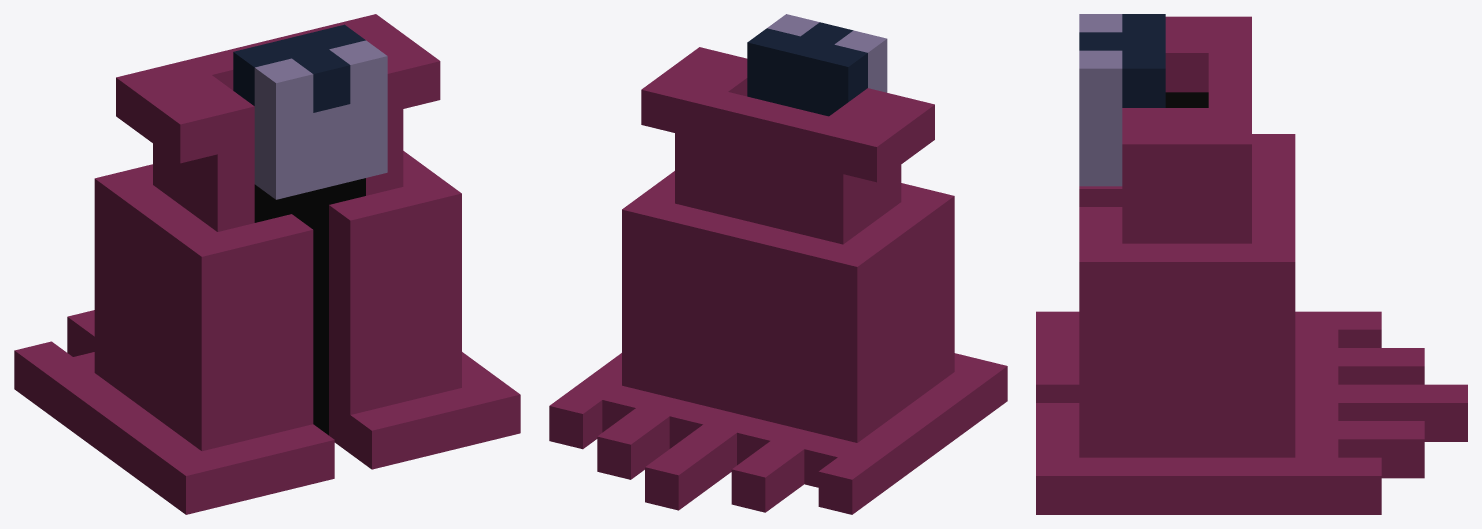
Rendered from vampire_idle_1.obj.
The picture shows the model from 3 angles, left to right: view 1: azimuth 30°, elevation 25°; view 2: azimuth 150°, elevation 25°; view 3: azimuth 270°, elevation 25°; orthographic projection. The views are drawn at different scales.
Bounding box in the file's own units: 0.9 × 1 × 1.
Materials: 1 (1 with a texture image).
